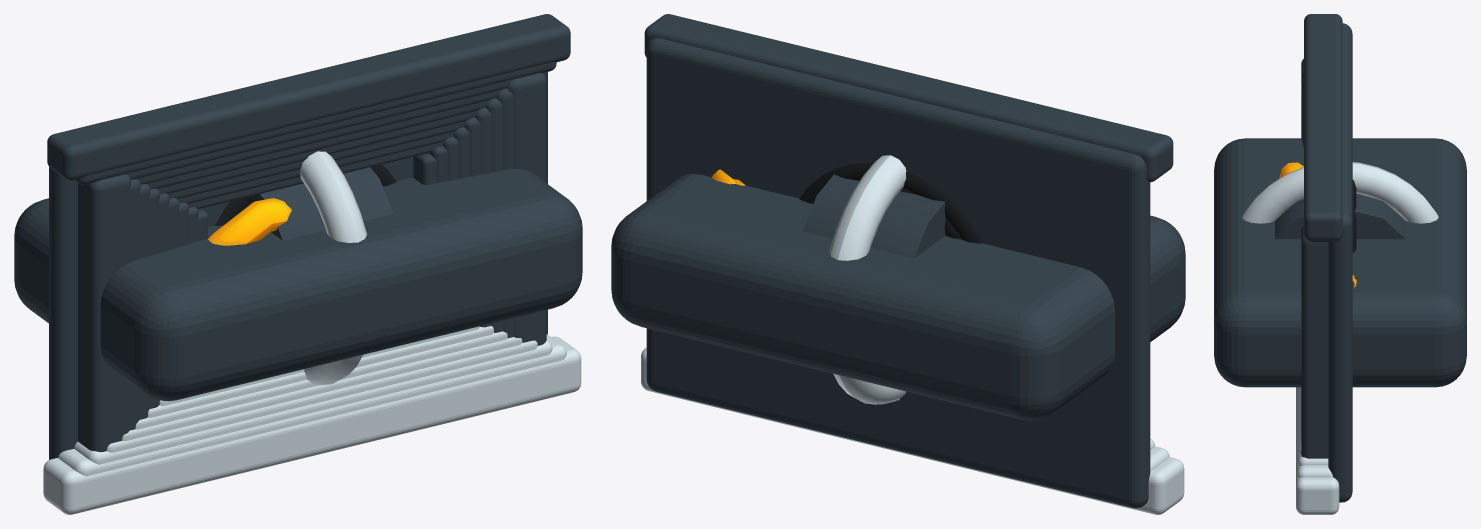
The model's file is body_05.glb.
3 renders of one model, left to right at view 1: azimuth 30°, elevation 25°; view 2: azimuth 150°, elevation 25°; view 3: azimuth 270°, elevation 25°, orthographic. The views are drawn at different scales.
Parts seen in each view (by area): view 1: asset_mesh__body_0332__reference_body, asset_mesh__body_0314__lower_flange, asset_mesh__body_0314__upper_flange, asset_mesh__body_0314__left_reinforcement, asset_mesh__body_0314__stamped_sheet, asset_mesh__body_0313__upper_flange, asset_mesh__body_0312__upper_flange, asset_mesh__body_0356__functional_ring, asset_mesh__body_0314__right_reinforcement, asset_mesh__body_0320__upper_flange, asset_mesh__body_0313__lower_flange, asset_mesh__body_0319__upper_flange (+22 smaller); view 2: asset_mesh__body_0314__stamped_sheet, asset_mesh__body_0332__reference_body, asset_mesh__body_0314__lower_flange, asset_mesh__body_0356__rotor, asset_mesh__body_0356__functional_ring, asset_mesh__body_0314__upper_flange, asset_mesh__body_0346__service_element; view 3: asset_mesh__body_0332__reference_body, asset_mesh__body_0314__lower_flange, asset_mesh__body_0314__stamped_sheet, asset_mesh__body_0314__right_reinforcement, asset_mesh__body_0356__functional_ring, asset_mesh__body_0356__rotor, asset_mesh__body_0314__upper_flange, asset_mesh__body_0313__upper_flange, asset_mesh__body_0312__upper_flange, asset_mesh__body_0346__service_element.
Boxes of the visible parts, box(x1,y1,x2,y2) form: asset_mesh__body_0332__reference_body: box(14, 169, 582, 401); asset_mesh__body_0314__lower_flange: box(47, 14, 570, 180); asset_mesh__body_0314__upper_flange: box(43, 336, 581, 514); asset_mesh__body_0314__left_reinforcement: box(78, 174, 131, 452); asset_mesh__body_0314__stamped_sheet: box(49, 72, 547, 459); asset_mesh__body_0313__upper_flange: box(58, 334, 566, 476); asset_mesh__body_0312__upper_flange: box(74, 340, 552, 464); asset_mesh__body_0356__functional_ring: box(299, 151, 366, 385); asset_mesh__body_0314__right_reinforcement: box(507, 73, 546, 345); asset_mesh__body_0320__upper_flange: box(107, 340, 537, 452); asset_mesh__body_0313__lower_flange: box(74, 62, 556, 184); asset_mesh__body_0319__upper_flange: box(122, 337, 522, 441); asset_mesh__body_0314__stamped_sheet: box(646, 37, 1150, 508); asset_mesh__body_0332__reference_body: box(611, 173, 1185, 420); asset_mesh__body_0314__lower_flange: box(644, 14, 1173, 182); asset_mesh__body_0356__rotor: box(803, 174, 945, 258); asset_mesh__body_0356__functional_ring: box(829, 155, 906, 404); asset_mesh__body_0314__upper_flange: box(641, 348, 1184, 514); asset_mesh__body_0346__service_element: box(799, 163, 982, 243); asset_mesh__body_0332__reference_body: box(1214, 138, 1466, 387); asset_mesh__body_0314__lower_flange: box(1304, 14, 1342, 240); asset_mesh__body_0314__stamped_sheet: box(1328, 23, 1352, 502); asset_mesh__body_0314__right_reinforcement: box(1301, 225, 1328, 458); asset_mesh__body_0356__functional_ring: box(1242, 162, 1438, 223); asset_mesh__body_0356__rotor: box(1275, 193, 1405, 239); asset_mesh__body_0314__upper_flange: box(1296, 387, 1339, 514); asset_mesh__body_0313__upper_flange: box(1297, 387, 1332, 477); asset_mesh__body_0312__upper_flange: box(1298, 387, 1328, 466); asset_mesh__body_0346__service_element: box(1352, 179, 1356, 252).
Size of the model in its own units: 1.72 by 1.15 by 0.882.
